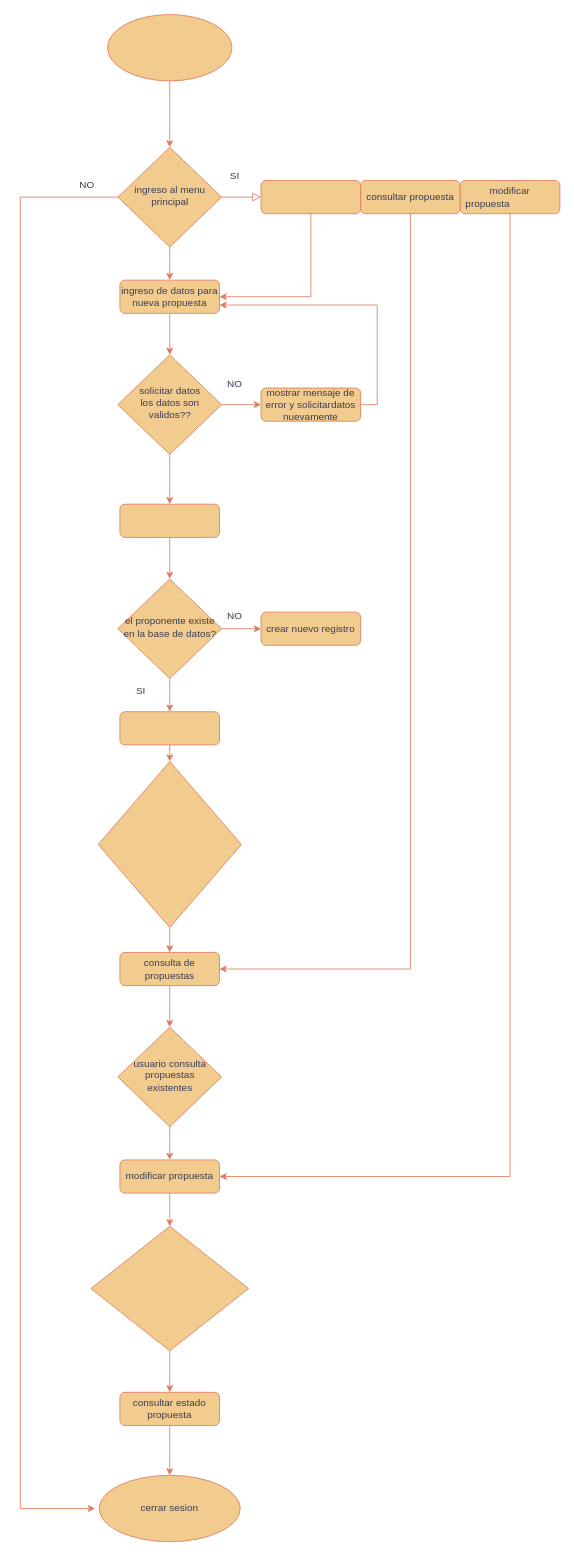
Some shapes in this 574 by 1556 pixel diagram are drawn without their labels. Here are the shapes that lost their labels. From the top down, the centre of each, then its label:
At point (169, 47): "ingreso a al web / inicio sesion".
At point (310, 197): "crear propuesta".
At point (169, 520): "creacion de proponente".
At point (169, 728): "creacion de propuesta".
At point (169, 844): "crear registro propuesta asociado proponente asociar documentos".
At point (169, 1288): "se permite actualizar o modificar detalles gestionar documentos".
